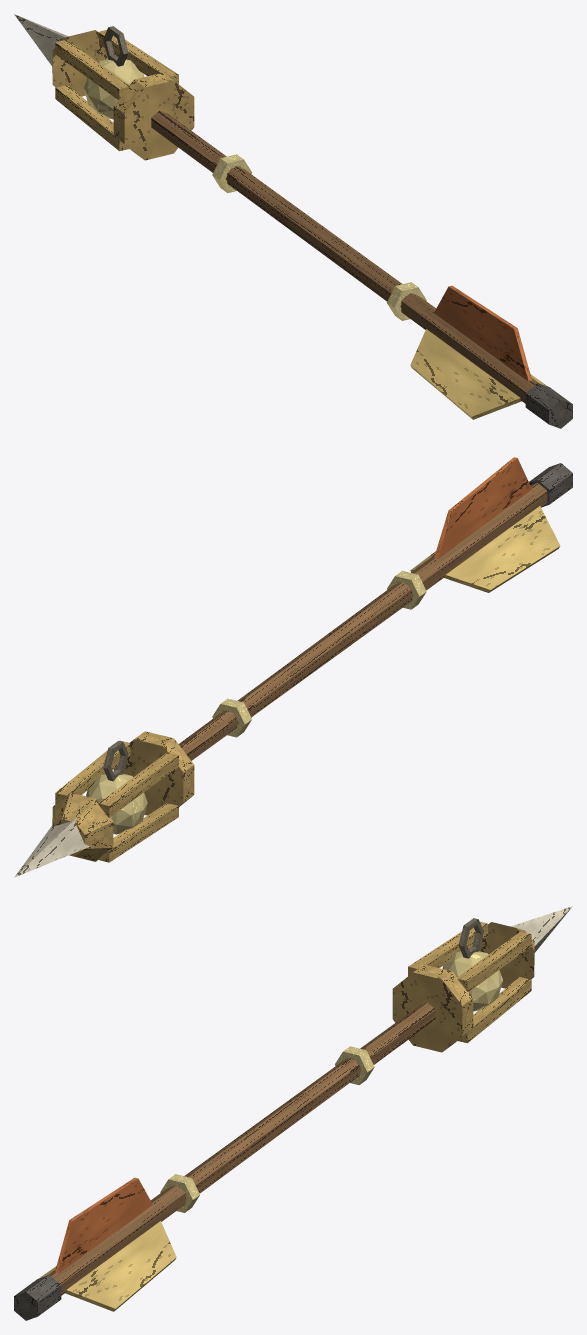
The model's file is proj_arrow_beacon.gltf.
The picture shows the model from 3 angles, top to bottom: view 1: azimuth 30°, elevation 25°; view 2: azimuth 150°, elevation 25°; view 3: azimuth 330°, elevation 25°; orthographic projection.
Parts seen in each view (by area): view 1: body, glow; view 2: body, glow; view 3: body, glow.
Boxes of the visible parts, <box> form: body: <box>14,14,572,428</box>; glow: <box>84,57,426,320</box>; body: <box>14,457,572,877</box>; glow: <box>86,570,426,834</box>; body: <box>14,906,572,1320</box>; glow: <box>160,949,502,1212</box>.
Size of the model in its own units: 0.0708 by 0.0718 by 0.752.
2 materials, 2 textured.
